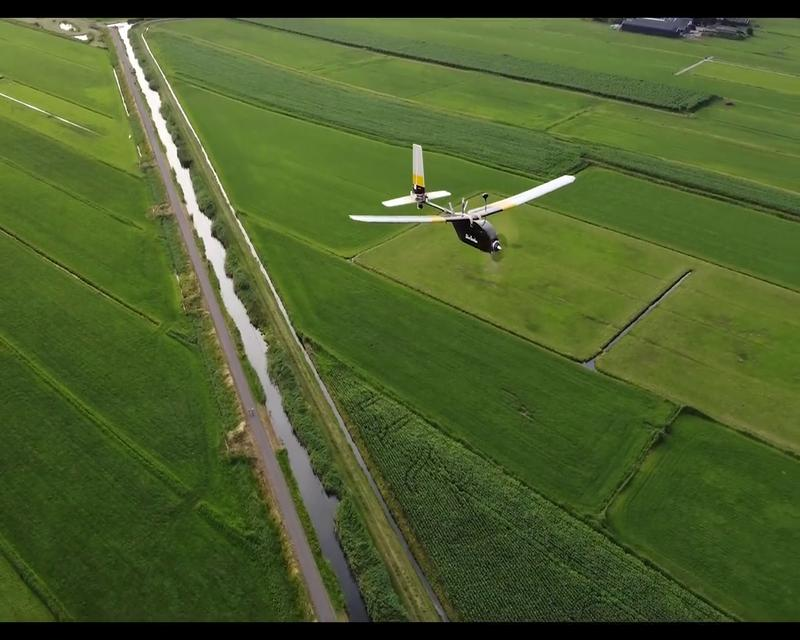UAV: (347, 141, 576, 255)
